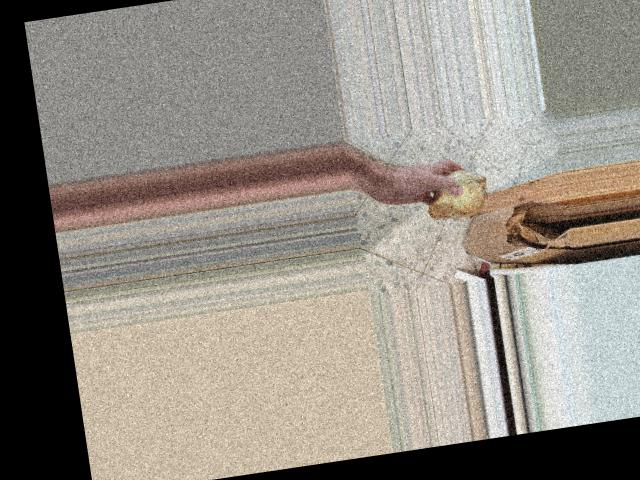onion: (420, 164, 494, 226)
